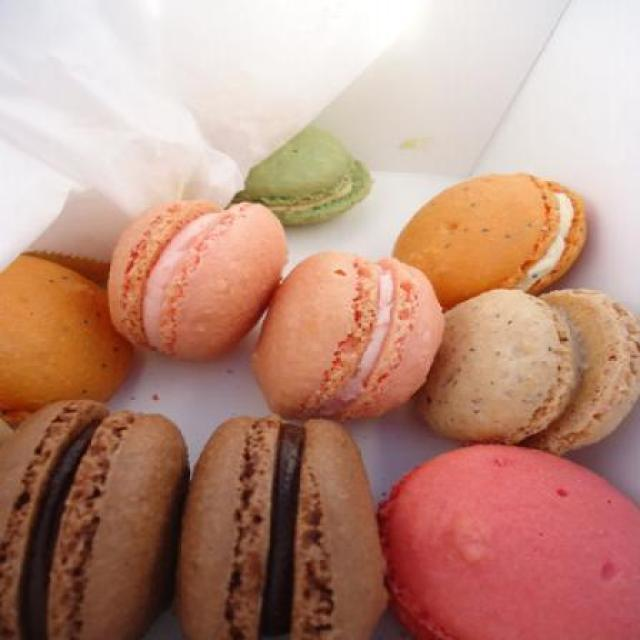Macaron: (5, 128, 638, 638)
